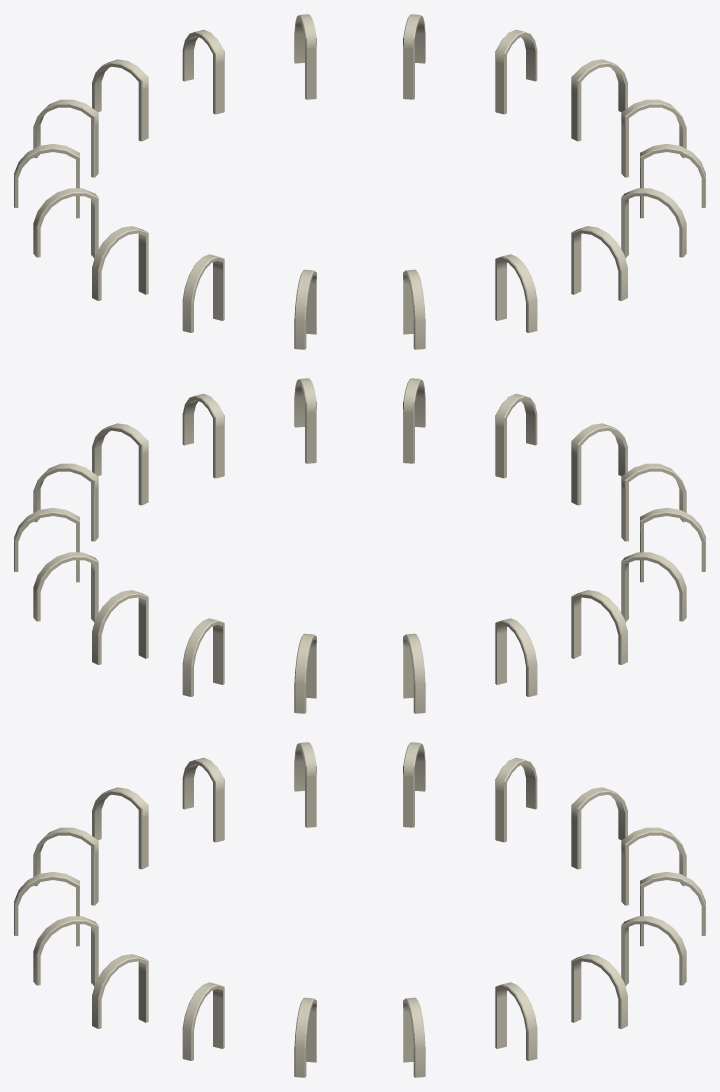
File: Environment_Arena_Arches_20.fbx
3 renders of one model, top to bottom at view 1: azimuth 30°, elevation 25°; view 2: azimuth 150°, elevation 25°; view 3: azimuth 270°, elevation 25°, orthographic.
Visible parts, largest first — view 1: Arches; view 2: Arches; view 3: Arches.
Part boxes in pixels (left/top/right/bottom): Arches: left=14, top=14, right=705, bottom=349; Arches: left=14, top=378, right=705, bottom=713; Arches: left=14, top=742, right=705, bottom=1077.
Size of the model in its own units: 40697 by 4613 by 41225.
